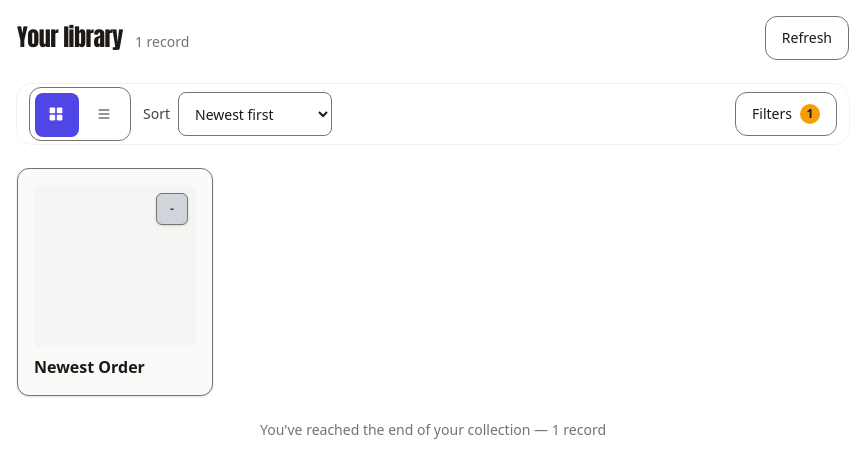
Test: Sorting the library (feature 068, US1 AS2/AS5/AS6, FR-008) › changing the select replaces the URL (filters kept, no page) and announces once after the new data renders, keeping focus
expect the text "Newest Order" is shown: met, box [34,356,145,378]
Select "Artist (A → Z)" in the dropdown labelled "Sort": (255, 114) [178,92,332,136]
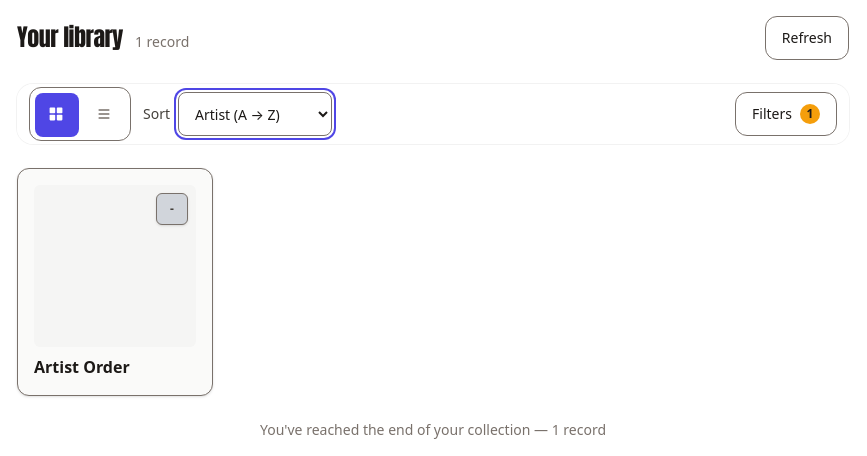
expect the text "Artist Order" is shown: met, box [34,356,130,378]
